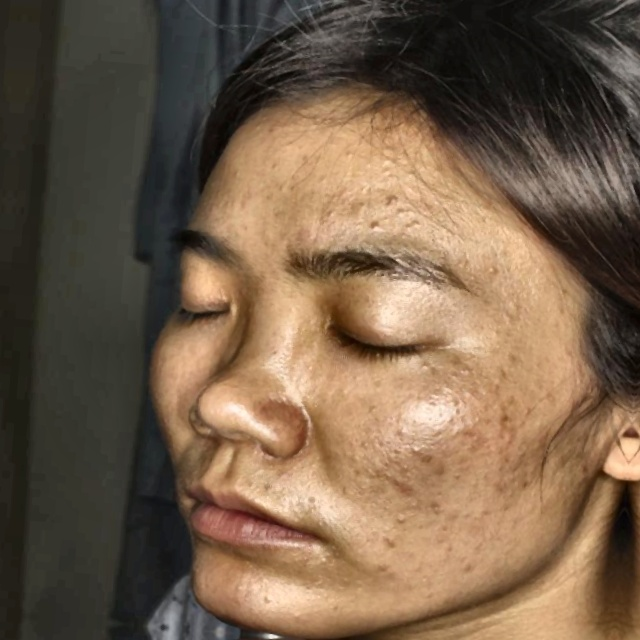comedone: (383, 477, 426, 502), (367, 210, 389, 237)
